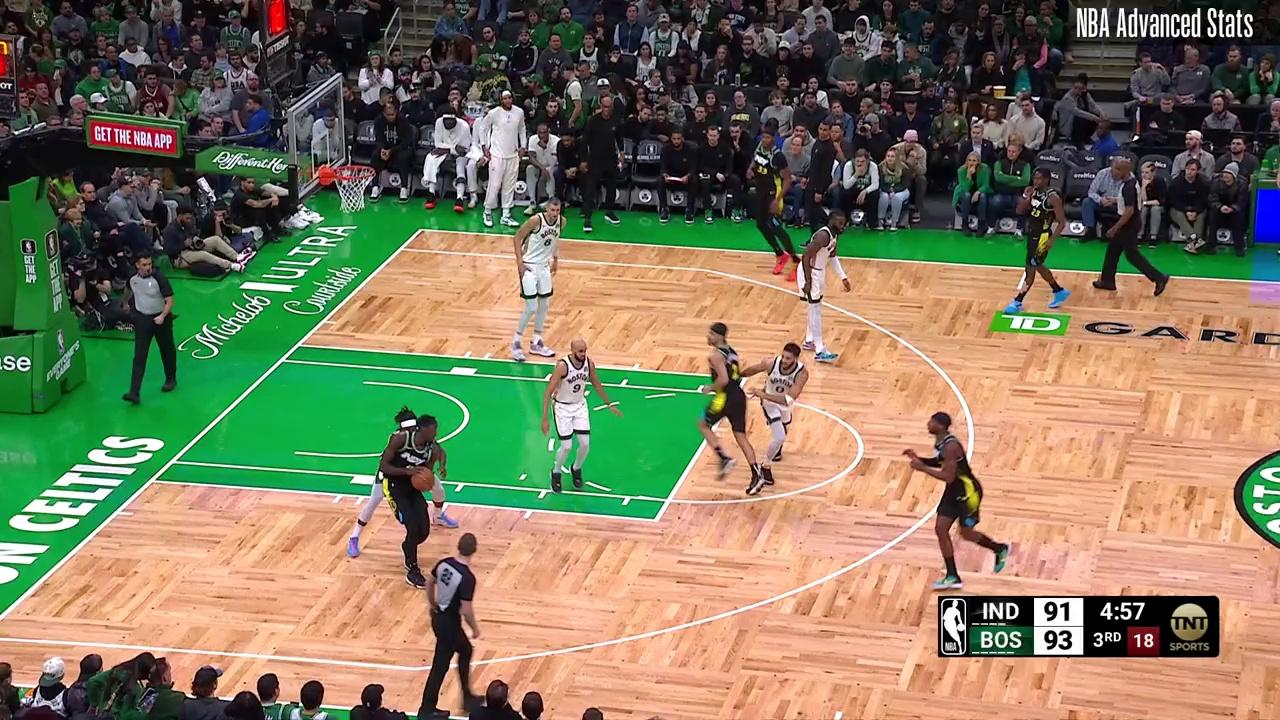b_dx: (415, 224, 427, 236)
free_adx: (741, 374, 749, 384)
free_asx: (649, 513, 664, 527)
free_bdx: (292, 340, 303, 350), (396, 245, 406, 254)
free_bsx: (146, 474, 159, 487)
mid_dx: (1014, 284, 1024, 293)
mid_sx: (833, 705, 846, 718)
referee: (422, 535, 491, 710), (1096, 160, 1168, 296), (120, 251, 180, 396)
team: (349, 409, 457, 557), (542, 340, 623, 495), (743, 344, 808, 480), (796, 209, 853, 364), (511, 196, 563, 358)
team1: (909, 412, 1012, 592), (696, 322, 770, 495), (385, 417, 438, 590), (1010, 170, 1072, 315), (749, 134, 804, 282)
timer: (1099, 596, 1148, 625)
